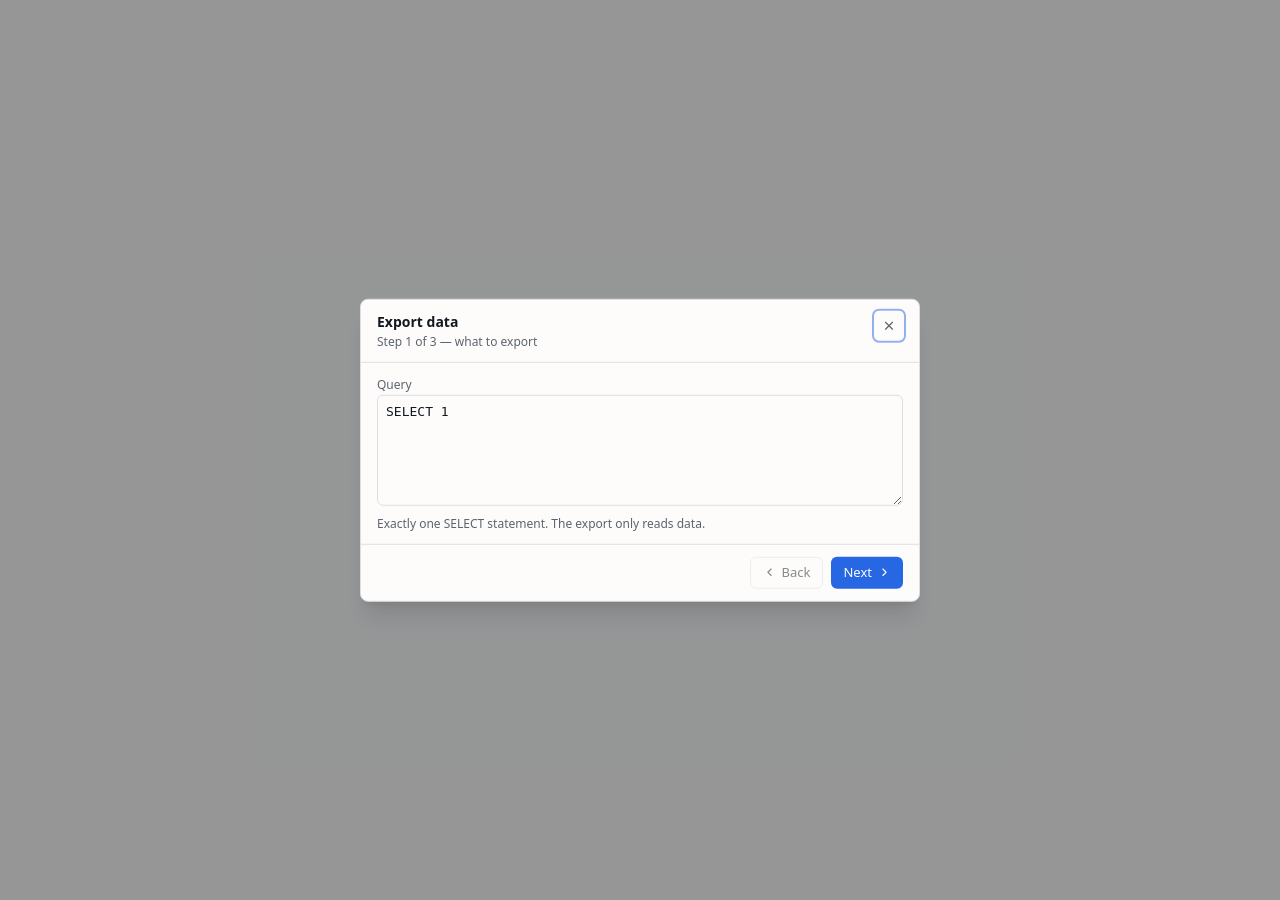
Scenario: ExportWizard › exports a query: one statement, data only, no SQL for document databases
Clear the text box labelled "Query" at (640, 450), box [377, 394, 903, 506]
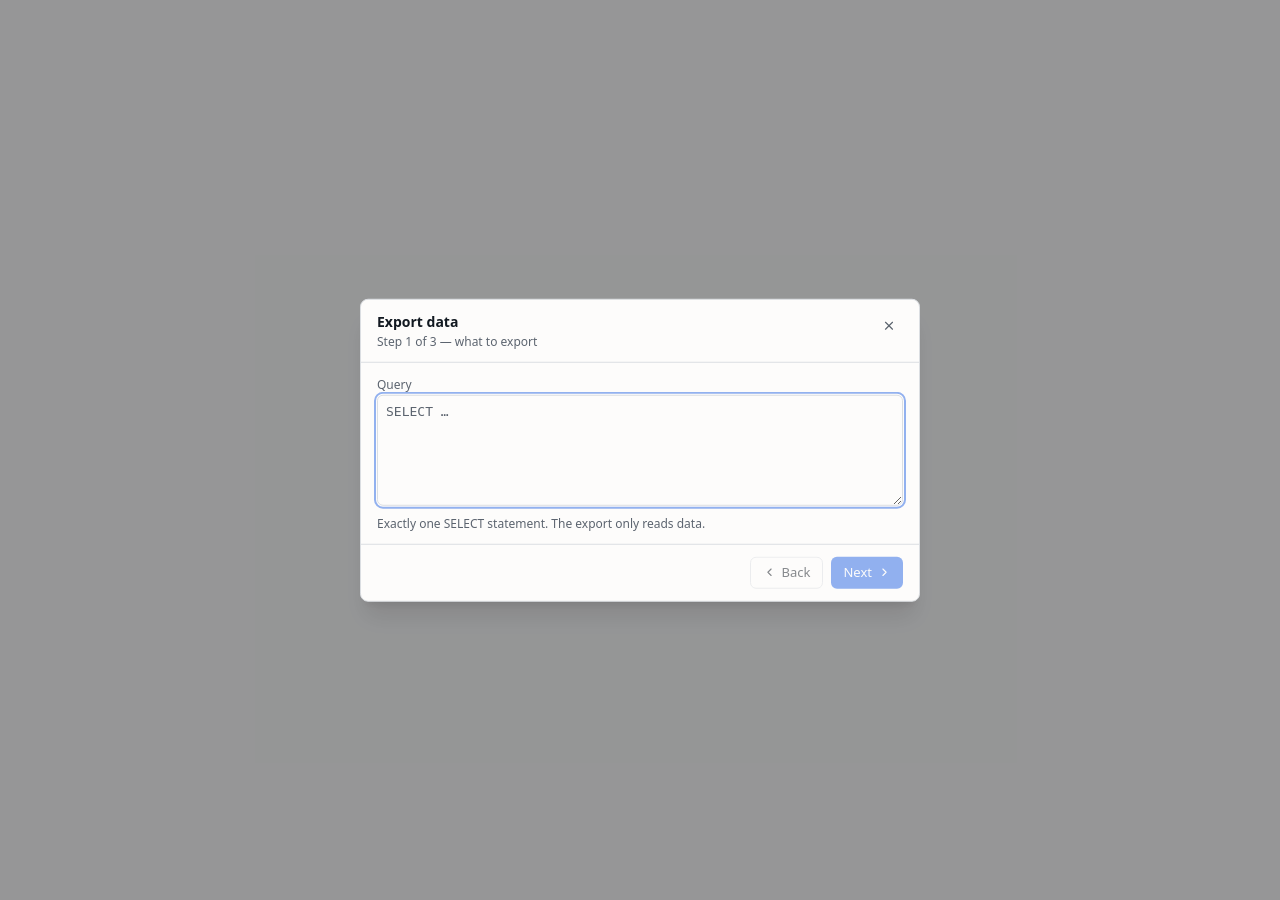
Expected: the button "Next" is disabled, [832, 556, 903, 588]
